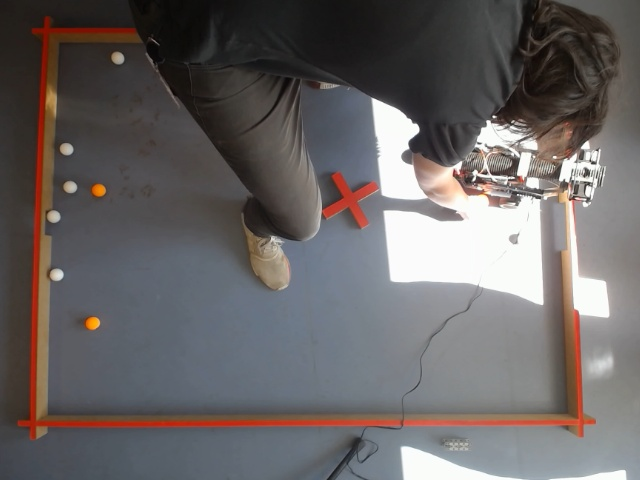orange: (82, 314, 103, 333), (89, 182, 109, 200)
robot: (441, 0, 619, 217)
white: (595, 469, 629, 480), (108, 49, 126, 69), (48, 266, 67, 284), (57, 140, 76, 158), (61, 178, 79, 196), (45, 208, 62, 225)
